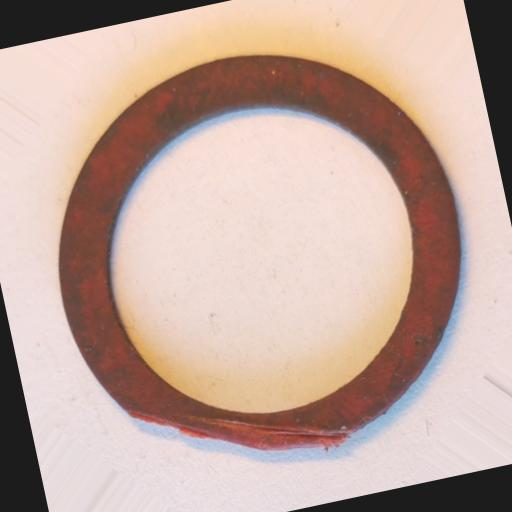defect: (130, 366, 355, 492)
